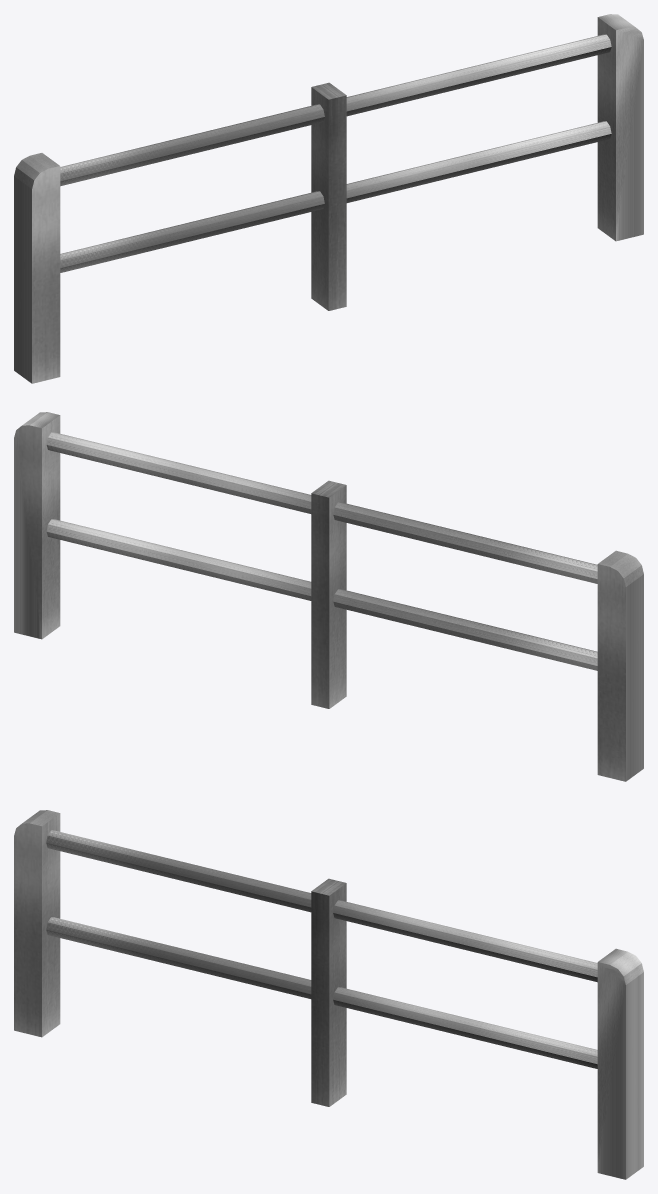
File: Fence01.fbx
3 views of the same model, one above another, from view 1: azimuth 30°, elevation 25°; view 2: azimuth 150°, elevation 25°; view 3: azimuth 330°, elevation 25° (orthographic).
Visible parts, largest first — view 1: Empty_Mesh; view 2: Empty_Mesh; view 3: Empty_Mesh.
Part boxes in pixels (<box>): Empty_Mesh: <box>14,14,643,383</box>; Empty_Mesh: <box>14,412,643,781</box>; Empty_Mesh: <box>14,810,643,1179</box>.
Bounding box in the file's own units: 2.14 × 0.7052 × 0.1095.
